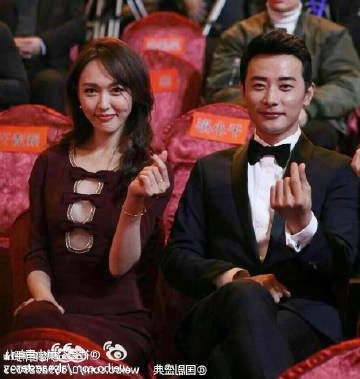oneheart: (264, 162, 320, 218), (131, 150, 181, 200)
